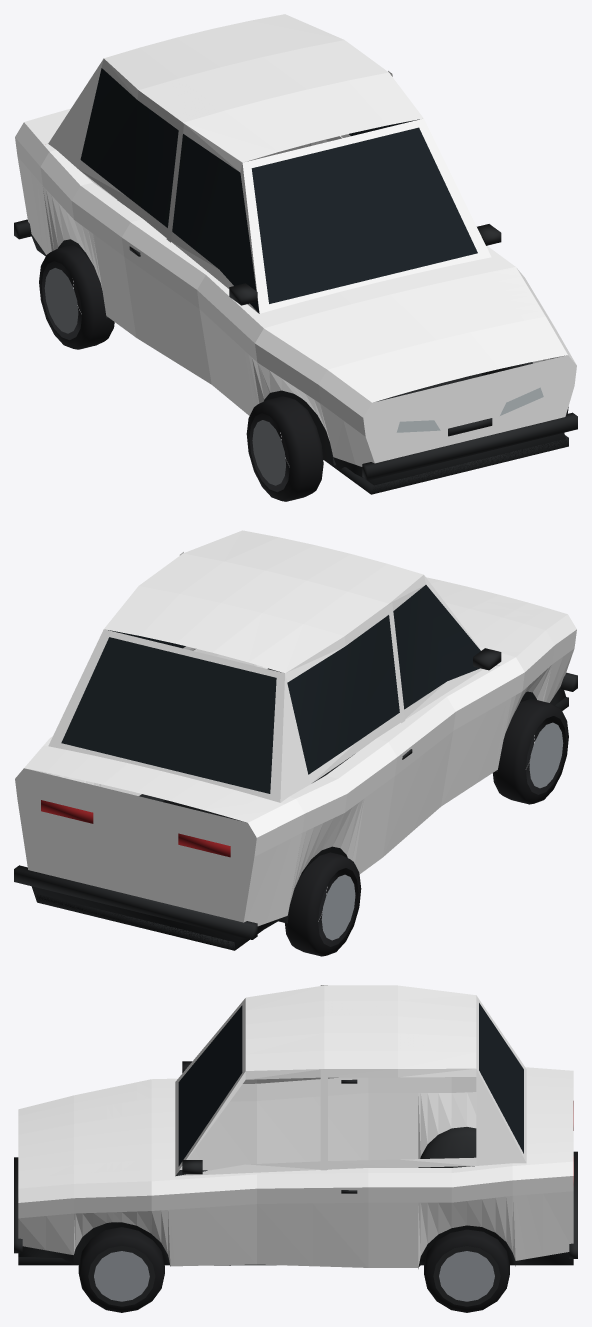
File: ottavo_tocoalto.glb
The picture shows the model from 3 angles, top to bottom: view 1: azimuth 30°, elevation 25°; view 2: azimuth 150°, elevation 25°; view 3: azimuth 270°, elevation 25°; orthographic projection. The views are drawn at different scales.
Visible parts, largest first — view 1: Body_Paint, Body_Details, Mount_FrontLeft_Wheel_Details, Mount_RearLeft_Wheel_Details; view 2: Body_Paint, Body_Details, Mount_RearLeft_Wheel_Details, Mount_FrontLeft_Wheel_Details; view 3: Body_Paint, Body_Details, Mount_FrontRight_Wheel_Details, Mount_RearRight_Wheel_Details.
Boxes of the visible parts, x1,y1,x2,y2 form: Body_Paint: (15,14,576,466); Body_Details: (14,68,577,494); Mount_FrontLeft_Wheel_Details: (246,396,323,501); Mount_RearLeft_Wheel_Details: (39,245,114,349); Body_Paint: (15,530,576,926); Body_Details: (14,585,577,950); Mount_RearLeft_Wheel_Details: (285,852,361,956); Mount_FrontLeft_Wheel_Details: (492,698,568,804); Body_Paint: (18,985,573,1267); Body_Details: (14,1003,577,1268); Mount_FrontRight_Wheel_Details: (78,1227,164,1312); Mount_RearRight_Wheel_Details: (424,1229,509,1312).
Size of the model in its own units: 1.69 by 1.65 by 3.6.
Materials: 2 (1 with a texture image).
